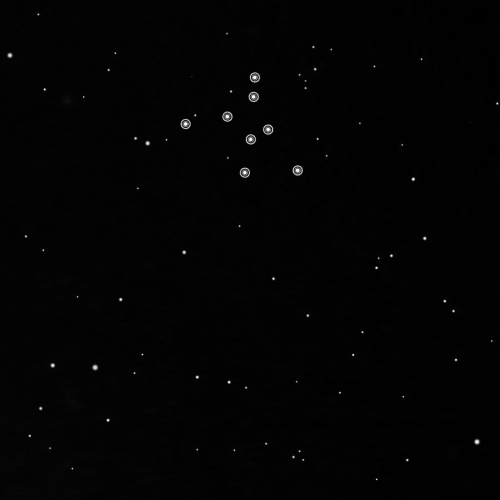hercules: (175, 66, 307, 181)
